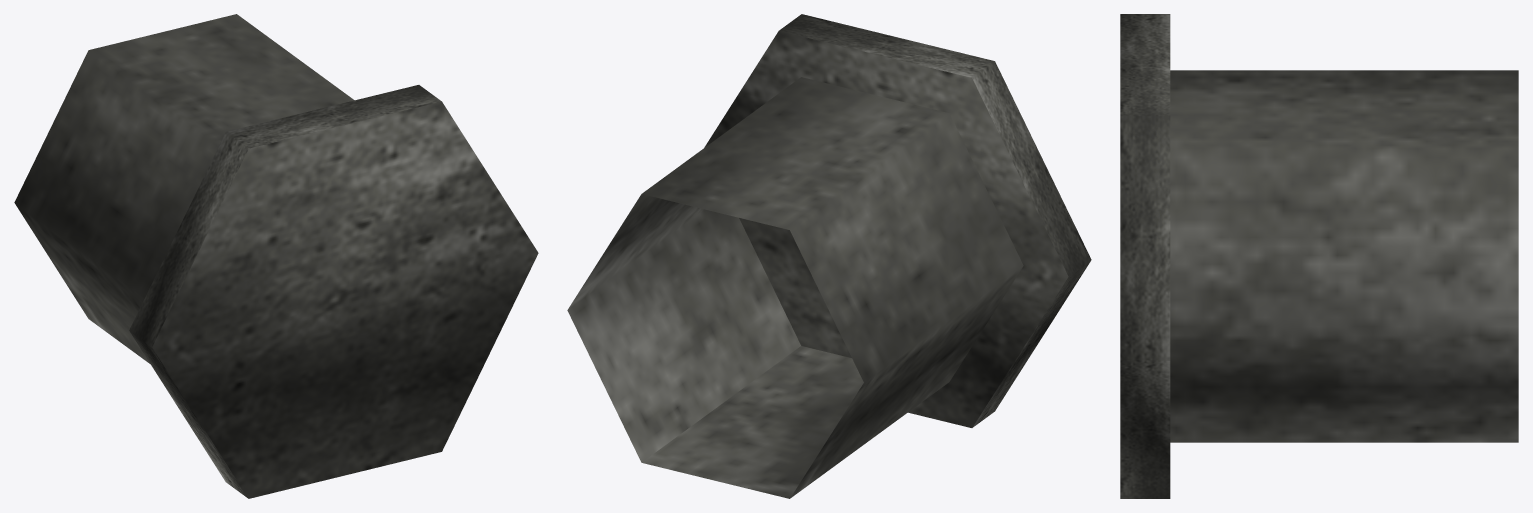
File: small_metal_1.fbx
The picture shows the model from 3 angles, left to right: view 1: azimuth 30°, elevation 25°; view 2: azimuth 150°, elevation 25°; view 3: azimuth 270°, elevation 25°; orthographic projection. The views are drawn at different scales.
Visible parts, largest first — view 1: polySurface526; view 2: polySurface526; view 3: polySurface526.
Boxes of the visible parts, box(x1,y1,x2,y2) form: polySurface526: box(14, 14, 538, 498); polySurface526: box(567, 14, 1091, 498); polySurface526: box(1120, 14, 1518, 498).
Bounding box in the file's own units: 1.3 × 1.13 × 1.07.
